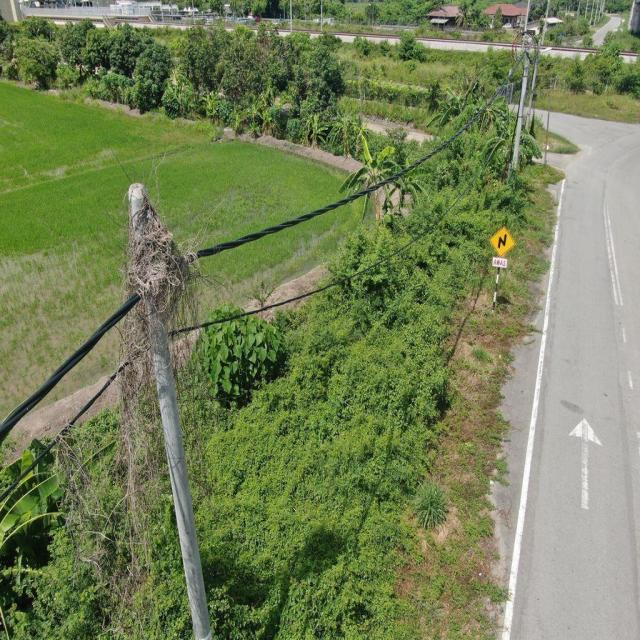critical vegetation: (111, 186, 212, 532)
